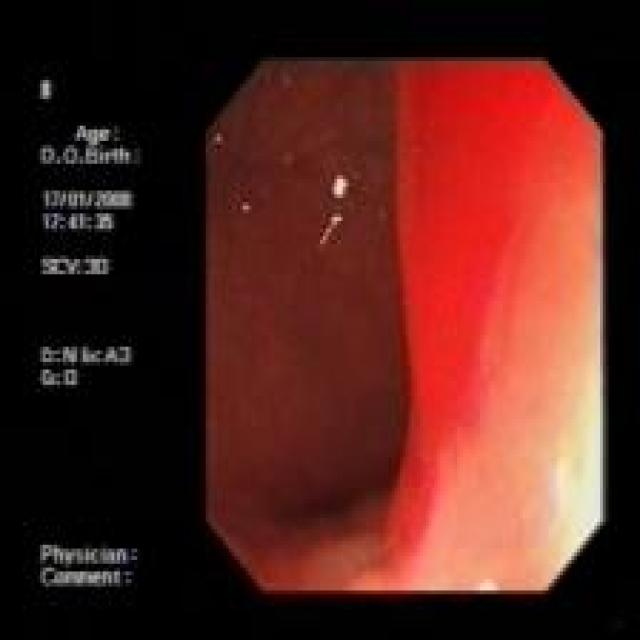color misalignment: (34, 76, 149, 594)
contrast: (208, 61, 397, 579)
saturation: (394, 61, 601, 551), (535, 281, 601, 578)
specularity: (318, 212, 347, 243), (329, 172, 348, 199), (240, 196, 253, 213)
